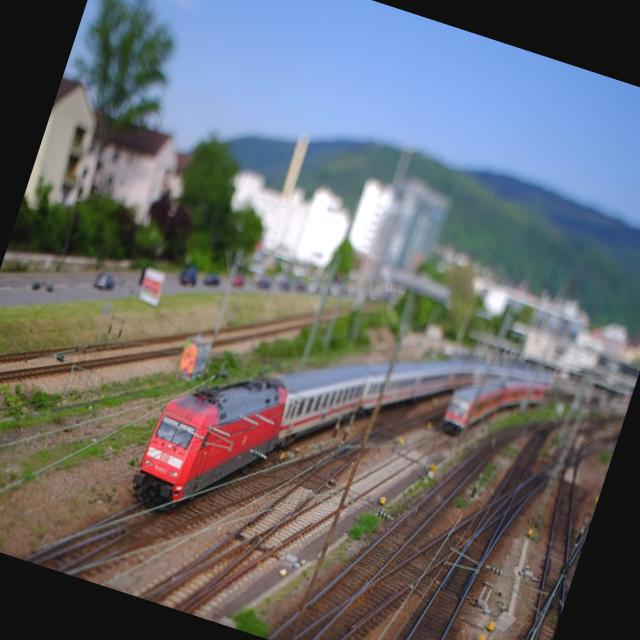Vehicle: (92, 268, 120, 294), (177, 270, 200, 290), (200, 273, 222, 289), (307, 280, 326, 298), (254, 278, 272, 294), (229, 274, 245, 290), (277, 278, 293, 293), (294, 282, 306, 294)
